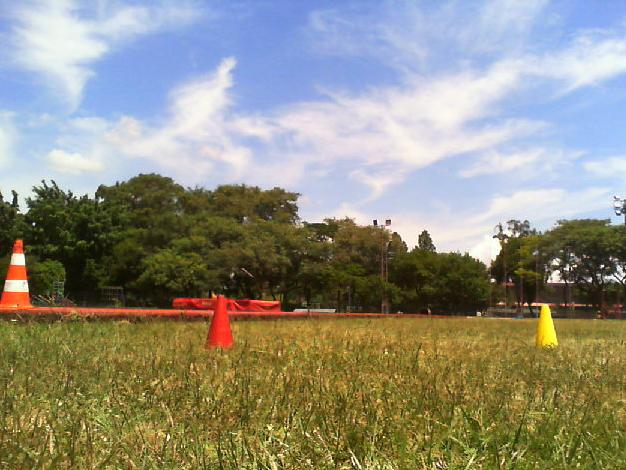0 cone: (0, 240, 35, 310), (201, 295, 237, 350), (535, 303, 557, 348)
